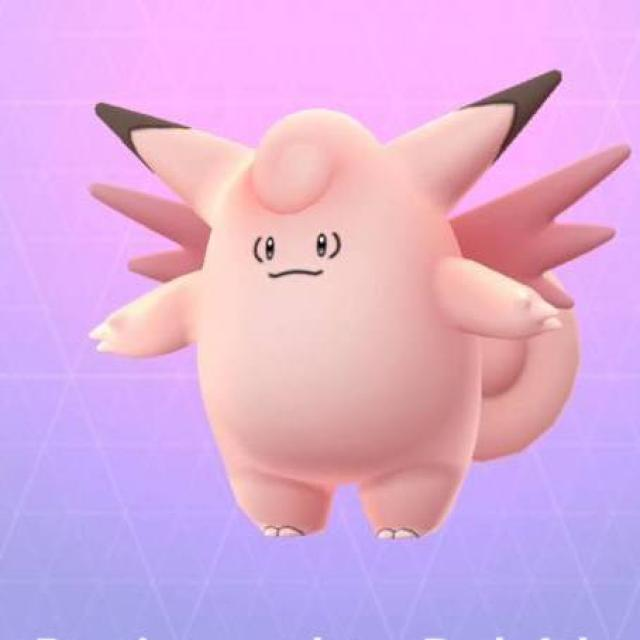Clefable: (141, 99, 571, 536)
